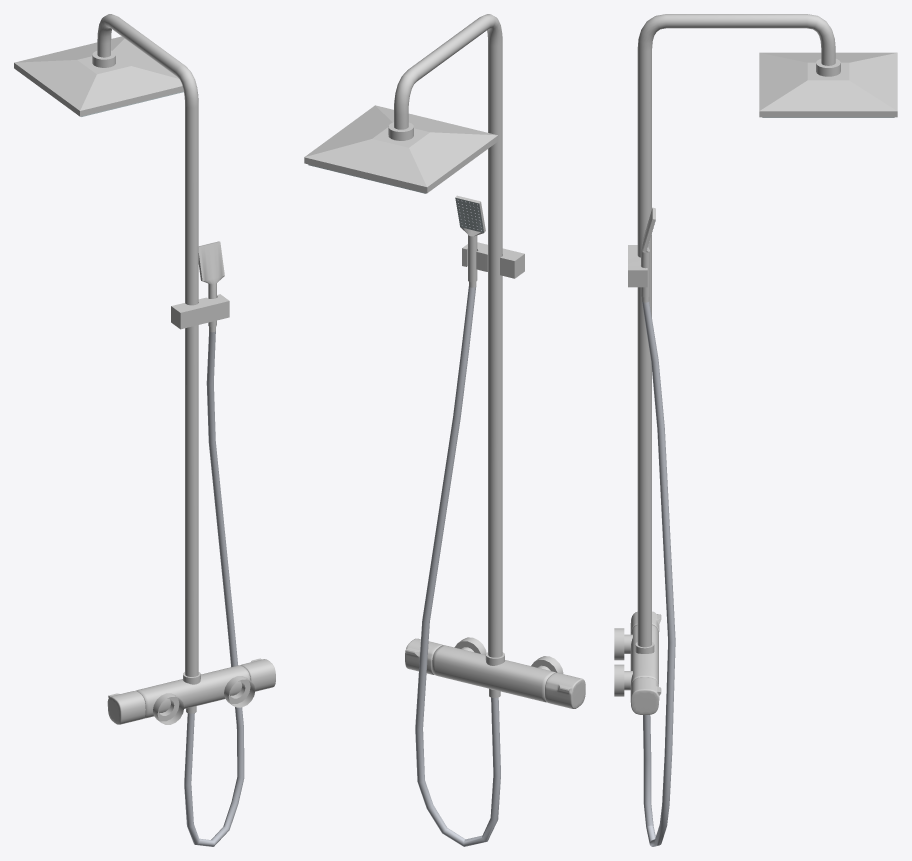
File: ShowerSystem02.fbx
The picture shows the model from 3 angles, left to right: view 1: azimuth 30°, elevation 25°; view 2: azimuth 150°, elevation 25°; view 3: azimuth 270°, elevation 25°; orthographic projection. The views are drawn at different scales.
Visible parts, largest first — view 1: ShowerSystem02, ShowerSystem02Lever01, ShowerSystem02Lever02; view 2: ShowerSystem02, ShowerSystem02Lever01, ShowerSystem02Lever02; view 3: ShowerSystem02, ShowerSystem02Lever02.
Part boxes in pixels (<box>): ShowerSystem02: <box>14,14,255,846</box>; ShowerSystem02Lever01: <box>107,691,145,724</box>; ShowerSystem02Lever02: <box>240,658,275,691</box>; ShowerSystem02: <box>304,14,563,846</box>; ShowerSystem02Lever01: <box>545,672,585,708</box>; ShowerSystem02Lever02: <box>405,638,443,674</box>; ShowerSystem02: <box>614,14,897,846</box>; ShowerSystem02Lever02: <box>630,677,661,714</box>.
Bounding box in the file's own units: 32.08 × 154 × 48.37.
